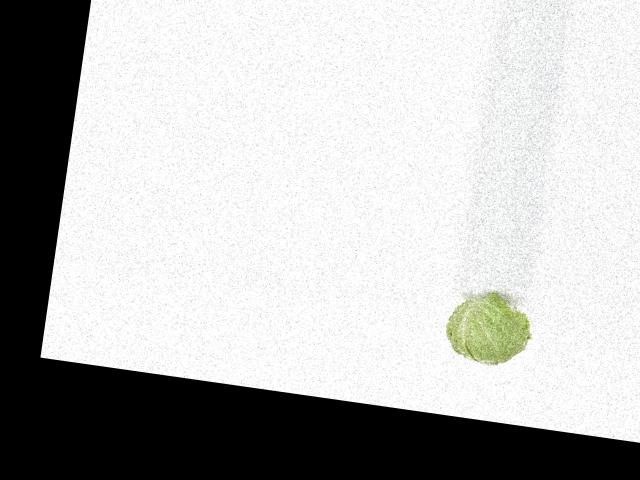lettuce: (436, 295, 537, 371)
